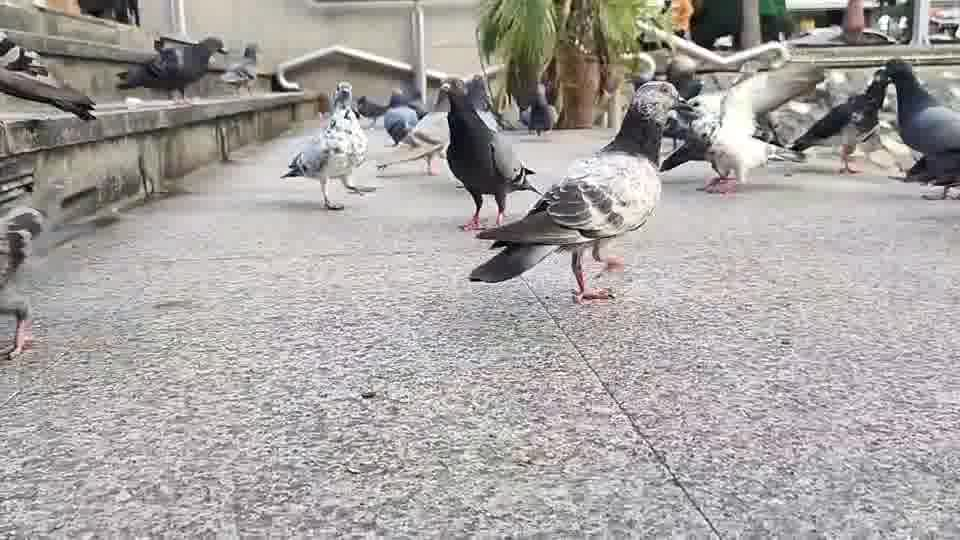Pigeon: (467, 79, 694, 304), (658, 58, 825, 194), (434, 74, 542, 231), (279, 81, 376, 210), (874, 57, 959, 200), (786, 70, 889, 175), (114, 35, 229, 103), (0, 42, 97, 121), (0, 205, 46, 360), (375, 90, 449, 177), (518, 80, 557, 136), (219, 45, 257, 96)
